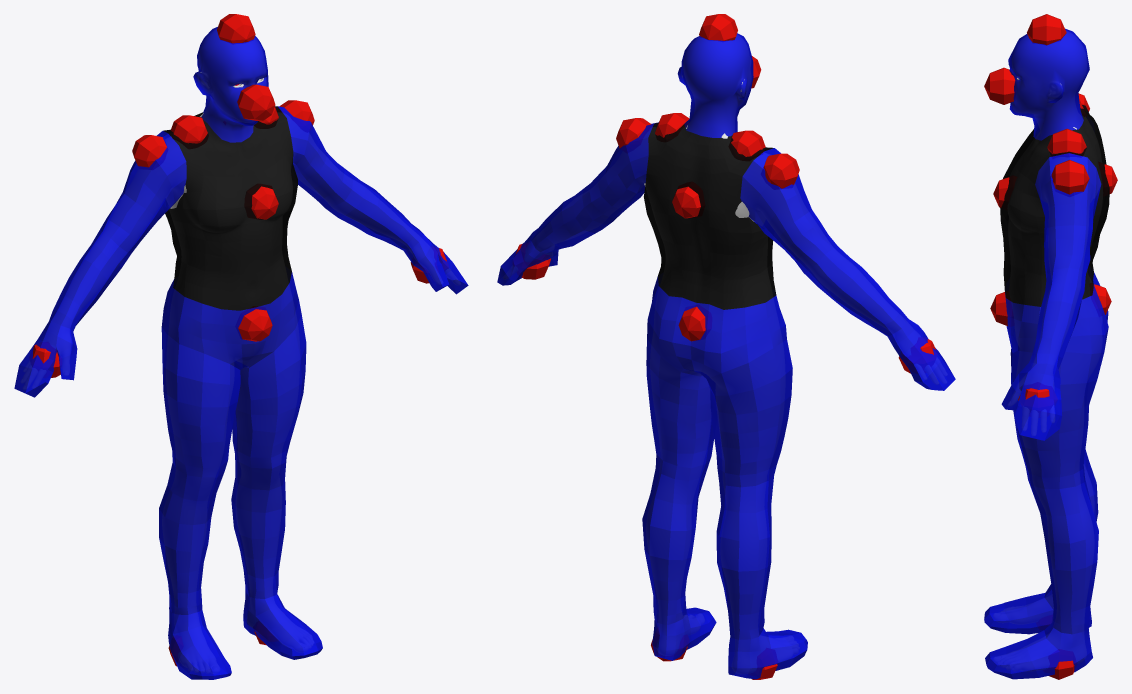
The model's file is G9_Cage_Att_MVC_Template_15.fbx.
3 views of the same model, side by side, from view 1: azimuth 30°, elevation 25°; view 2: azimuth 150°, elevation 25°; view 3: azimuth 270°, elevation 25° (orthographic).
Parts seen in each view (by area): view 1: UpperTorso_OuterCage, RightUpperLeg_OuterCage, LeftUpperLeg_OuterCage, LowerTorso_OuterCage, RightLowerLeg_OuterCage, LeftLowerLeg_OuterCage, Head_OuterCage, RightUpperArm_OuterCage, RightLowerArm_OuterCage, LeftUpperArm_OuterCage, LeftLowerArm_OuterCage, LeftFoot_OuterCage (+9 smaller); view 2: UpperTorso_OuterCage, RightUpperLeg_OuterCage, LowerTorso_OuterCage, RightLowerLeg_OuterCage, LeftUpperLeg_OuterCage, LeftLowerLeg_OuterCage, Head_OuterCage, RightUpperArm_OuterCage, RightLowerArm_OuterCage, LeftUpperArm_OuterCage, RightFoot_OuterCage, LeftLowerArm_OuterCage (+8 smaller); view 3: UpperTorso_OuterCage, LeftLowerLeg_OuterCage, Head_OuterCage, LeftUpperLeg_OuterCage, LeftUpperArm_OuterCage, LeftFoot_OuterCage, LeftLowerArm_OuterCage, LeftHand_OuterCage, LowerTorso_OuterCage, RightFoot_OuterCage, LeftShoulder_Att, Hat_Att (+8 smaller).
Boxes of the visible parts, x1,y1,x2,y2 form: UpperTorso_OuterCage: (163,106,297,310); RightUpperLeg_OuterCage: (161,327,240,477); LeftUpperLeg_OuterCage: (232,314,306,468); LowerTorso_OuterCage: (161,272,301,369); RightLowerLeg_OuterCage: (159,462,224,614); LeftLowerLeg_OuterCage: (231,454,286,598); Head_OuterCage: (193,27,268,142); RightUpperArm_OuterCage: (100,131,186,253); RightLowerArm_OuterCage: (49,230,130,331); LeftUpperArm_OuterCage: (278,106,352,208); LeftLowerArm_OuterCage: (326,171,423,250); LeftFoot_OuterCage: (243,589,322,659); UpperTorso_OuterCage: (643,122,776,309); RightUpperLeg_OuterCage: (706,339,792,487); LowerTorso_OuterCage: (647,277,786,378); RightLowerLeg_OuterCage: (716,475,773,639); LeftUpperLeg_OuterCage: (646,339,714,480); LeftLowerLeg_OuterCage: (642,468,706,625); Head_OuterCage: (677,33,753,137); RightUpperArm_OuterCage: (740,148,837,272); RightLowerArm_OuterCage: (803,246,908,336); LeftUpperArm_OuterCage: (582,122,658,224); RightFoot_OuterCage: (728,628,807,679); LeftLowerArm_OuterCage: (531,188,611,252); UpperTorso_OuterCage: (1000,105,1109,306); LeftLowerLeg_OuterCage: (1028,478,1098,634); Head_OuterCage: (1008,28,1089,140); LeftUpperLeg_OuterCage: (1011,351,1103,488); LeftUpperArm_OuterCage: (1035,153,1101,279); LeftFoot_OuterCage: (985,623,1092,679); LeftLowerArm_OuterCage: (1029,267,1085,369); LeftHand_OuterCage: (1001,362,1062,440); LowerTorso_OuterCage: (1005,272,1108,353); RightFoot_OuterCage: (984,584,1091,634); LeftShoulder_Att: (1051,160,1089,194); Hat_Att: (1027,14,1066,45).
Bounding box in the file's own units: 4.27 × 5.96 × 1.12.
